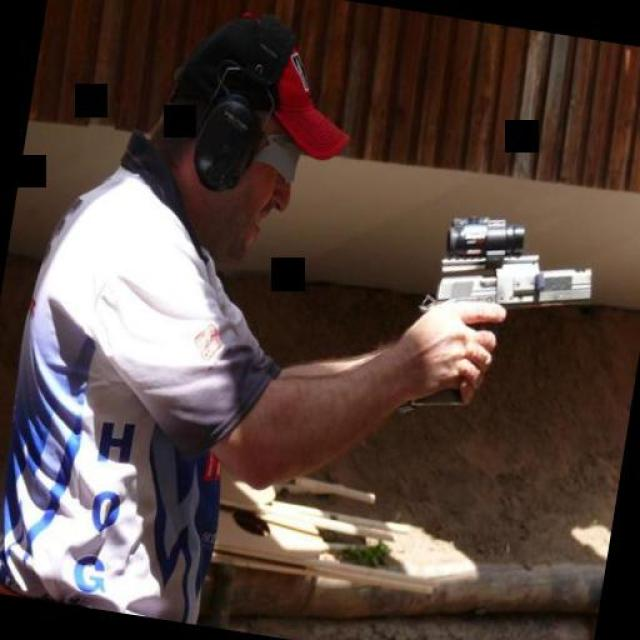gun: (400, 200, 600, 436)
